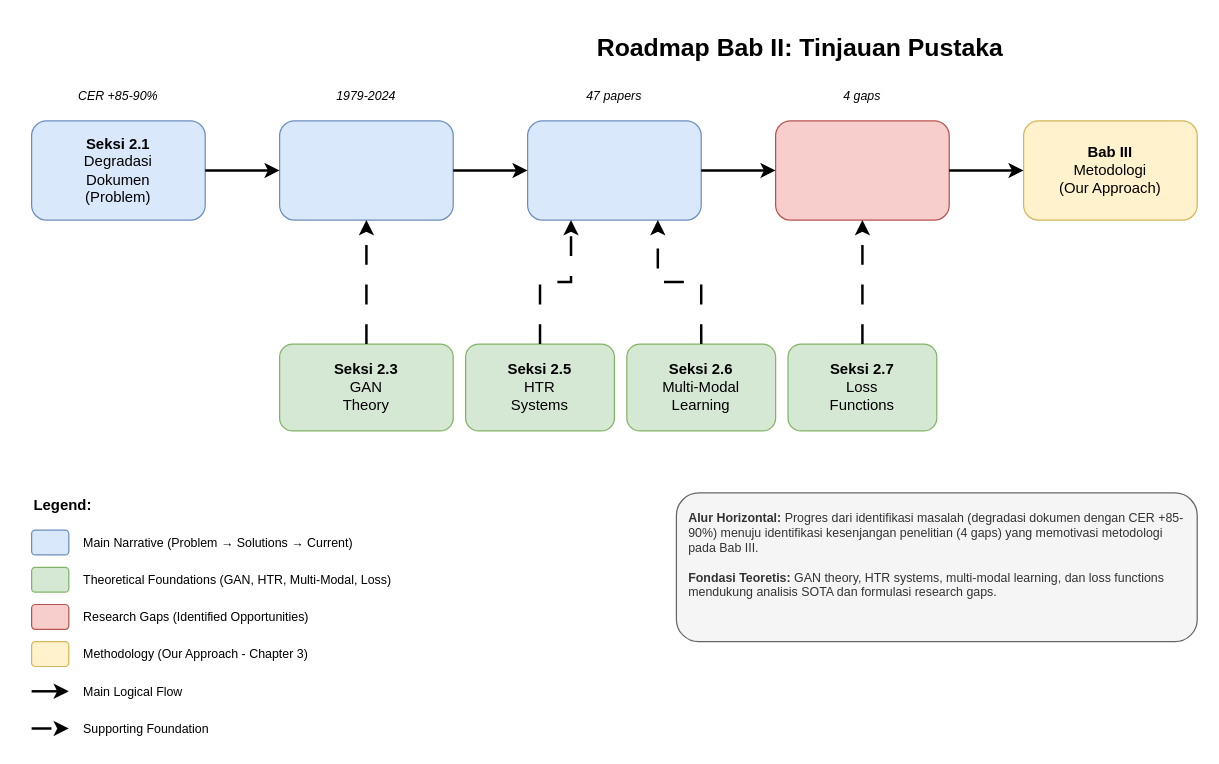
Image size: 1219x764. Some labels were removed from this diagram. Here are the shapes that lost their labels. From the top down, the box of each, then its label:
(278, 120, 453, 220): Seksi 2.2 Evolusi Metode (Solutions)
(526, 120, 701, 220): Seksi 2.4 SOTA Analysis (Current)
(774, 120, 949, 220): Seksi 2.8 Research Gaps (Missing)
